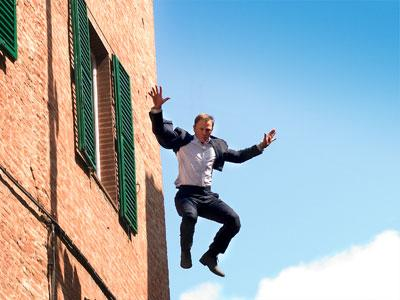person: (148, 84, 277, 279)
